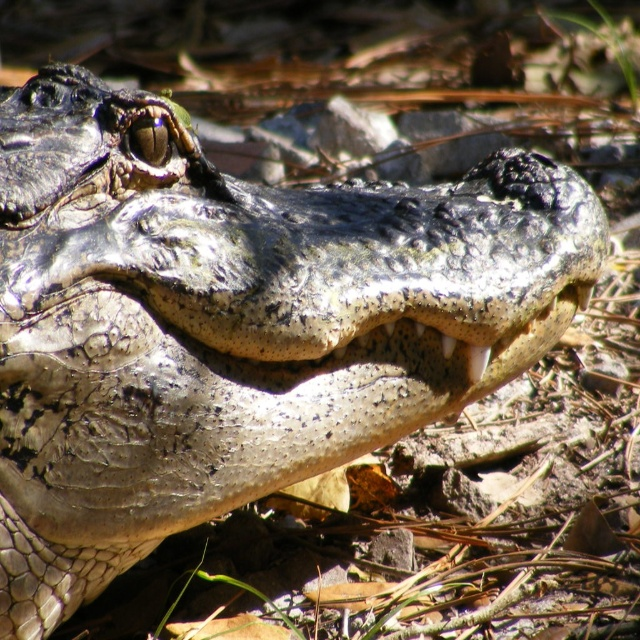Crocodile: (0, 62, 610, 640)
